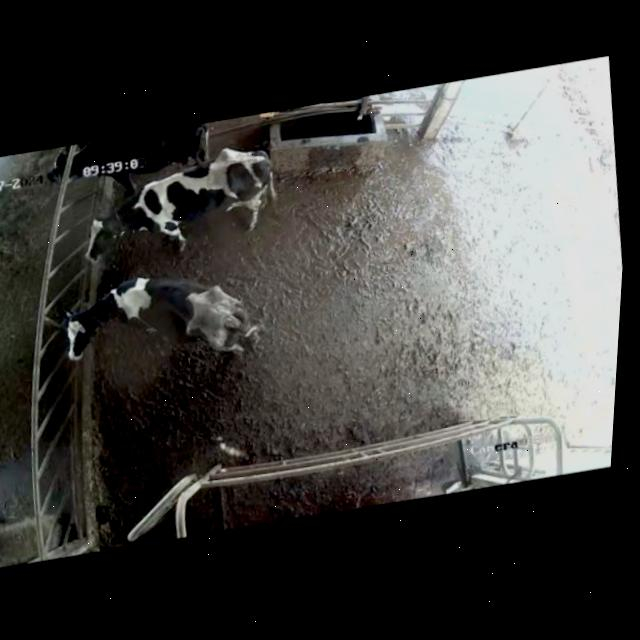eat: (6, 138, 118, 210)
stand: (50, 258, 278, 406), (66, 144, 291, 271)
